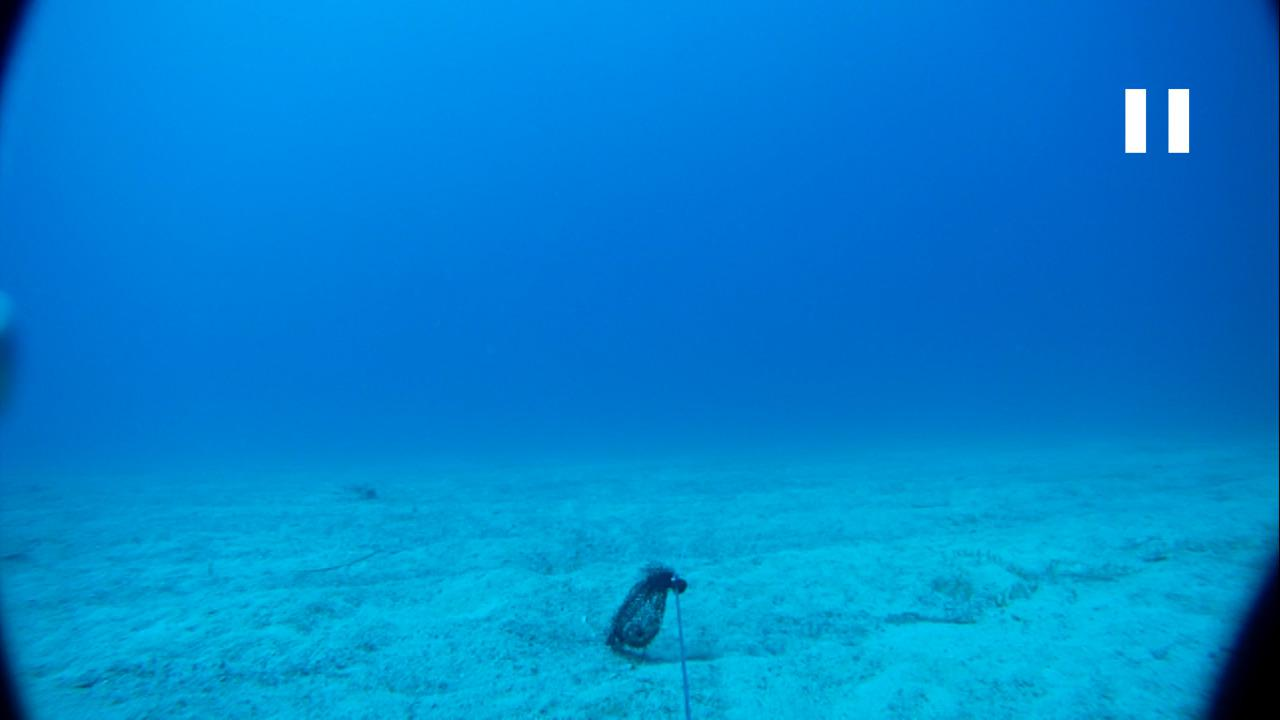dactylopterus: (326, 475, 391, 506)
